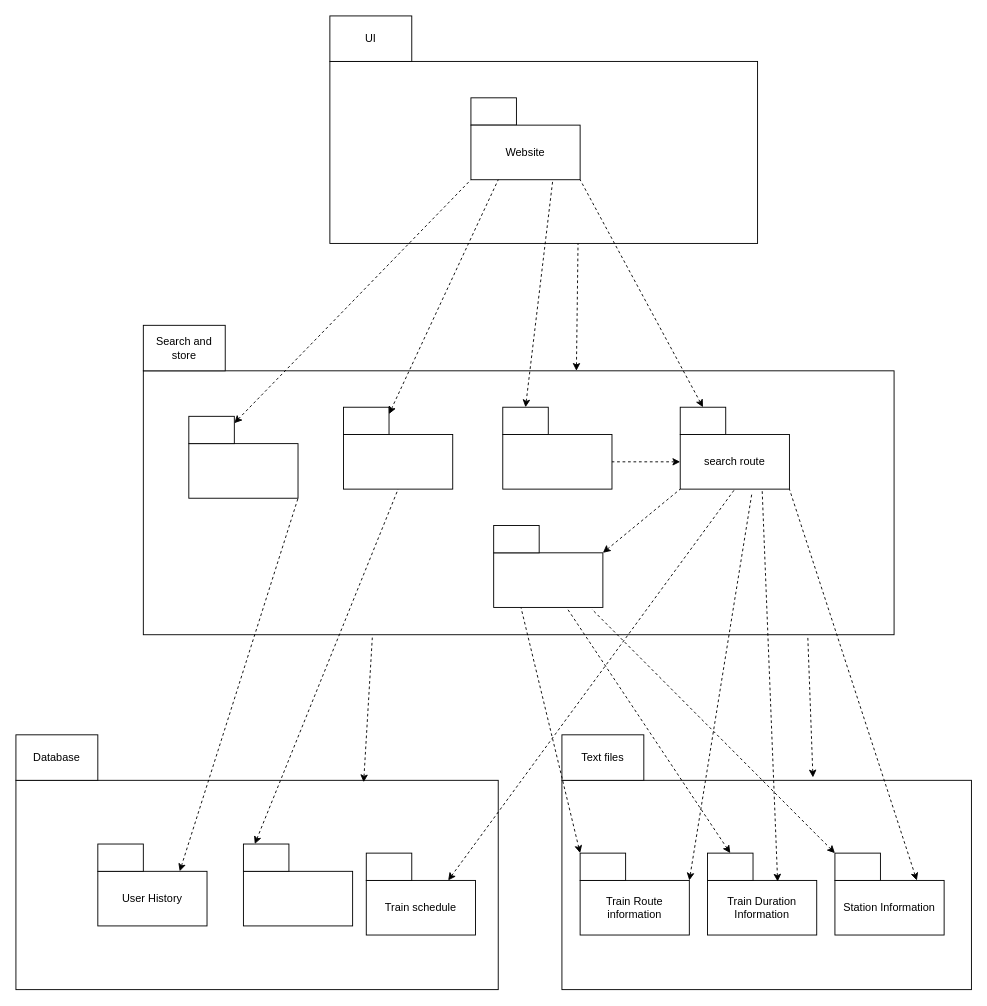
Some shapes in this 987 by 1006 pixel diagram are drawn without their labels. Each missing label, with the centre of its shape:
"Dijkstra" belongs at (x=548, y=579).
"Find Shortest Route" belongs at (x=557, y=461).
"Store/Retrieve history" belongs at (x=243, y=470).
"Store/Retrieve User info" belongs at (x=398, y=461).
"User Information" belongs at (x=298, y=898).
